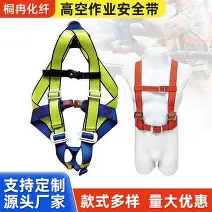safety belt: (29, 29, 114, 171), (131, 57, 188, 137)
safety belt2: (125, 57, 182, 135)
